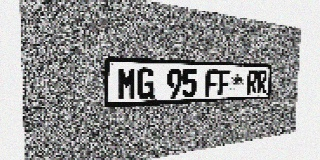5: (182, 69, 197, 97)
9: (167, 68, 182, 98)
F: (205, 69, 218, 96), (218, 69, 230, 96)
G: (137, 67, 154, 100)
M: (118, 67, 136, 101)
R: (247, 70, 258, 94), (257, 70, 267, 94)
